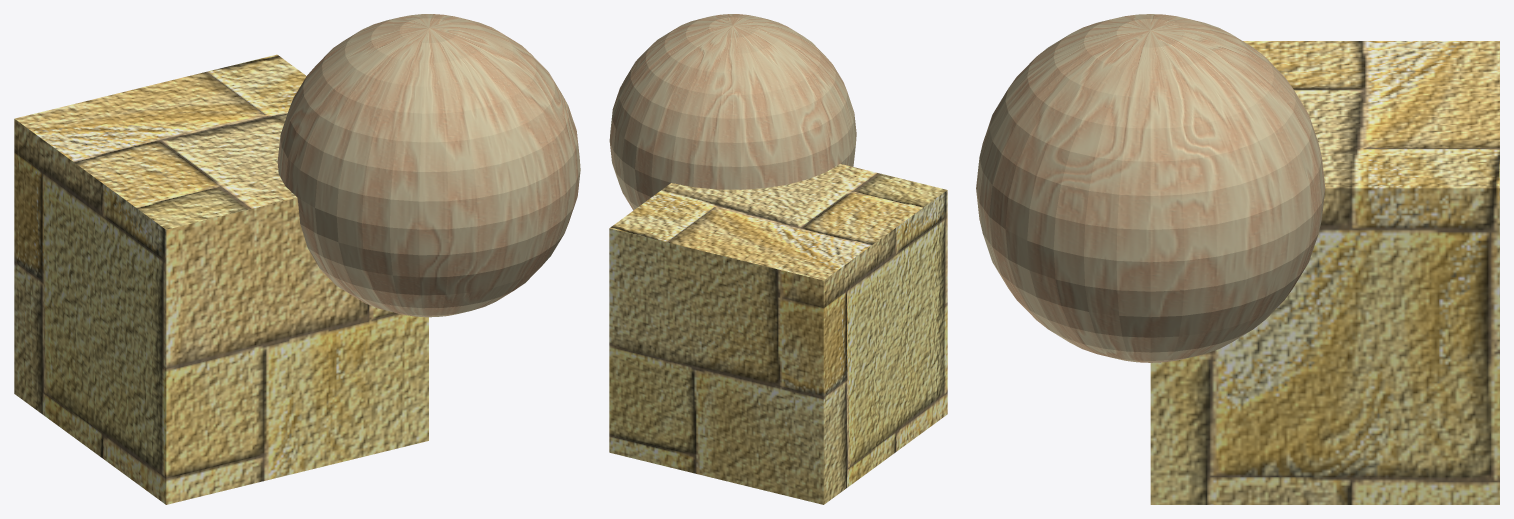
Rendered from cube-ball.obj.
3 renders of one model, left to right at view 1: azimuth 30°, elevation 25°; view 2: azimuth 150°, elevation 25°; view 3: azimuth 270°, elevation 25°, orthographic. The views are drawn at different scales.
Visible parts, largest first — view 1: Cube, Sphere; view 2: Cube, Sphere; view 3: Cube, Sphere.
Part boxes in pixels (x1=…): Cube: x1=14, y1=54, x2=428, y2=504; Sphere: x1=277, y1=14, x2=580, y2=317; Cube: x1=609, y1=164, x2=947, y2=504; Sphere: x1=609, y1=14, x2=856, y2=210; Cube: x1=1150, y1=41, x2=1499, y2=504; Sphere: x1=976, y1=14, x2=1325, y2=362.
Bounding box in the file's own units: 3 × 3 × 3.
Materials: 2 (2 with a texture image).
